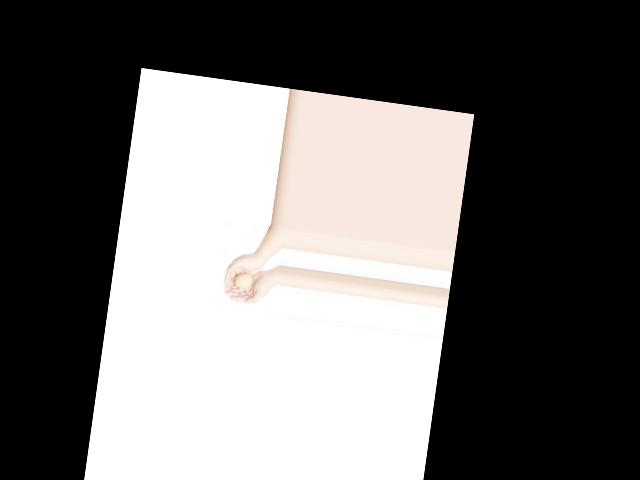egg: (234, 271, 253, 288)
